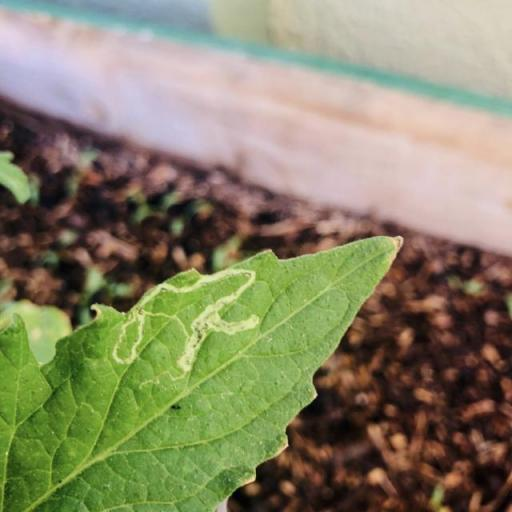disease_tomato: (0, 230, 409, 512)
